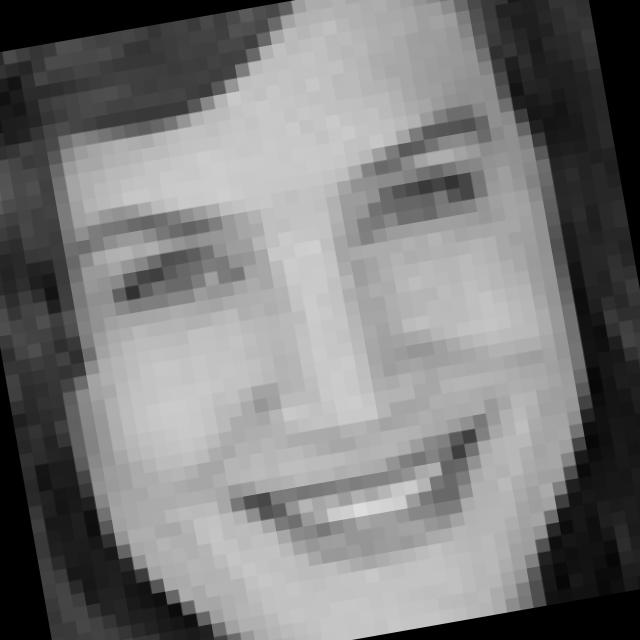happy: (53, 99, 568, 618)
